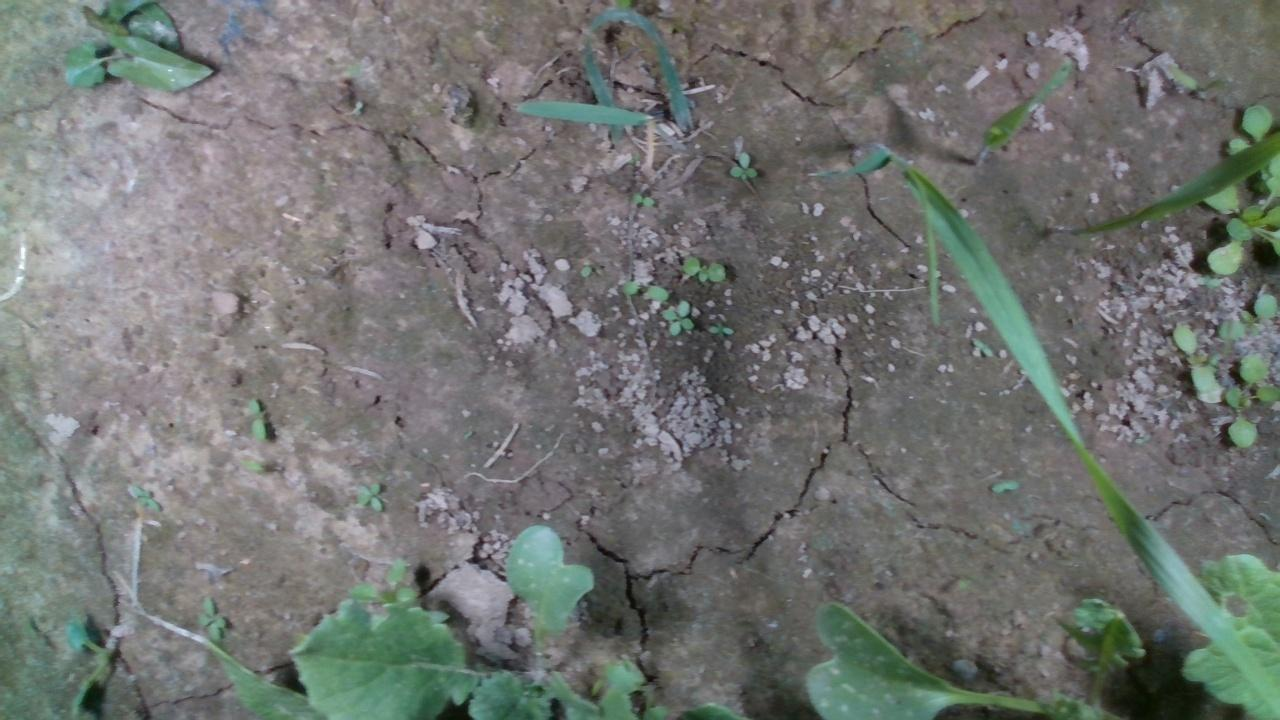weed: (191, 596, 230, 641), (349, 477, 385, 518), (677, 253, 727, 282), (663, 296, 697, 335), (246, 395, 269, 443), (618, 278, 668, 300), (729, 150, 758, 181)
